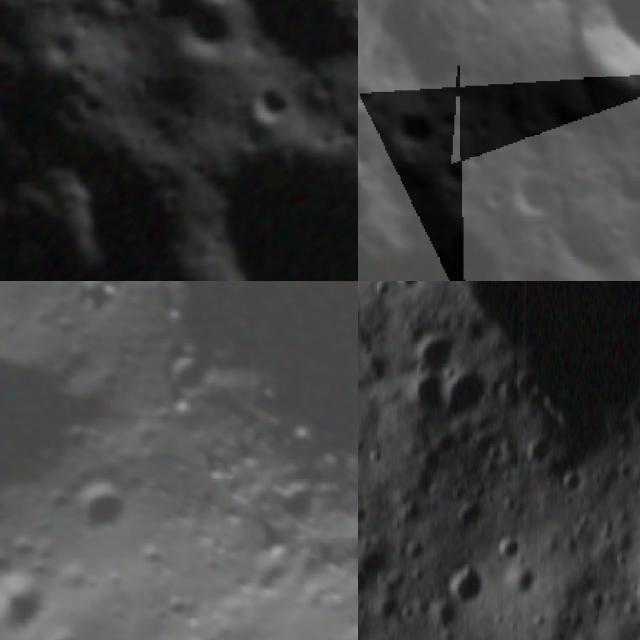crater: (417, 281, 640, 481), (555, 0, 640, 129), (57, 465, 150, 558), (158, 0, 255, 80), (533, 202, 622, 281), (390, 26, 470, 101), (358, 137, 402, 266), (498, 154, 572, 230), (432, 362, 509, 430), (370, 95, 442, 166), (234, 73, 306, 142), (154, 346, 221, 414), (256, 467, 322, 533), (595, 150, 640, 224), (396, 369, 448, 429), (402, 331, 462, 382), (438, 558, 492, 609), (323, 102, 358, 159), (473, 176, 514, 217), (500, 560, 541, 601), (490, 531, 525, 568), (530, 0, 607, 15), (387, 281, 421, 296)
